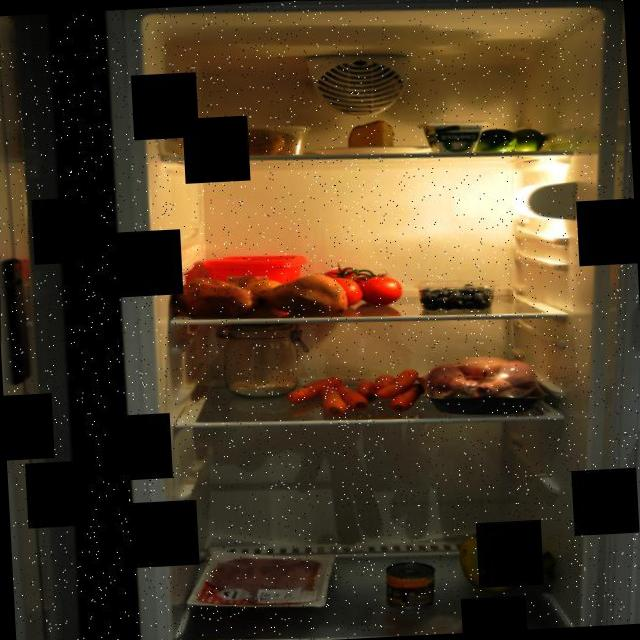Carne cerdo: (212, 548, 340, 612)
Carne pollo: (421, 346, 554, 420)
Mantequilla: (199, 250, 312, 296)
Patata: (188, 106, 312, 164)
Plátano: (446, 514, 566, 599)
Queso: (342, 116, 400, 154)
Tomate: (314, 256, 408, 312)
Zanahoria: (282, 364, 428, 424)
